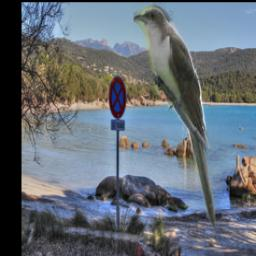Cuckoo: (133, 3, 220, 234)
